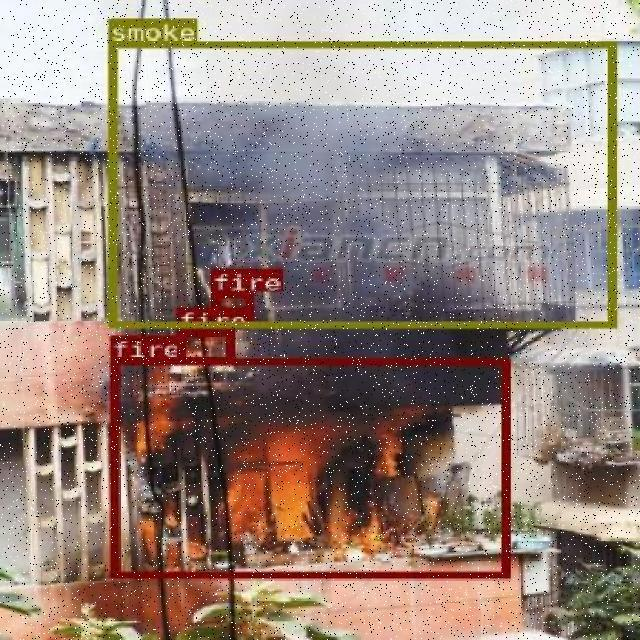Smoke: (106, 0, 615, 263)
